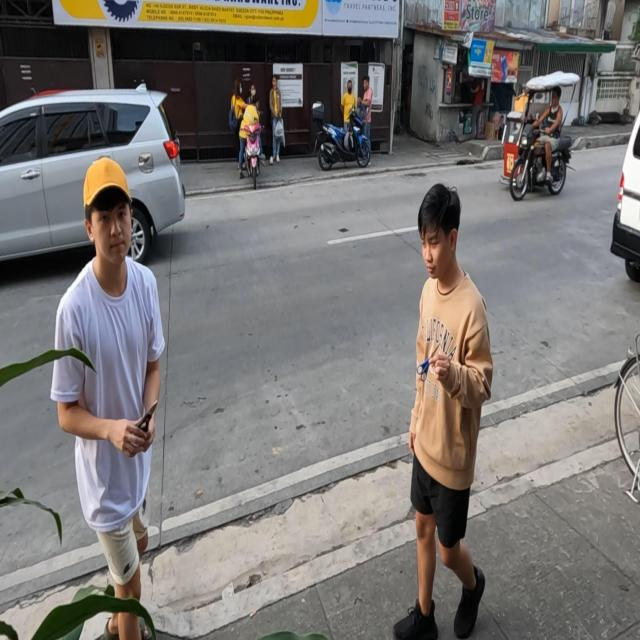scissor: (134, 400, 158, 441), (416, 342, 440, 382)
